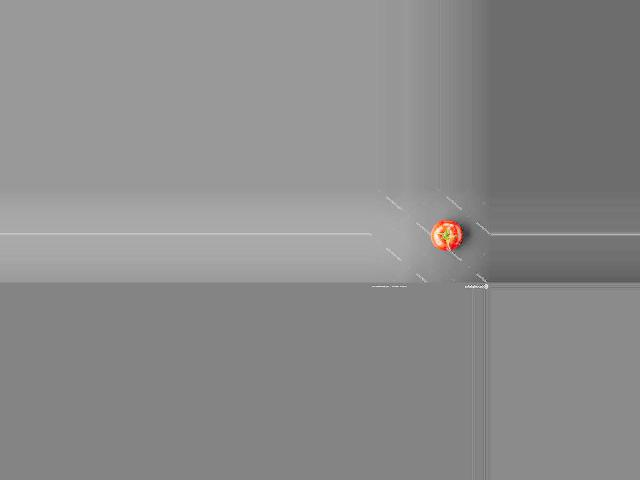tomato: (429, 219, 461, 251)
